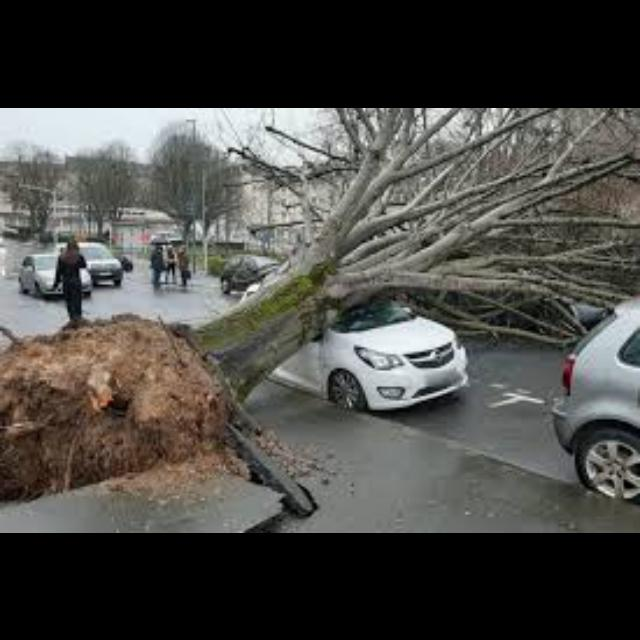Fallen Tree: (2, 206, 458, 454)
